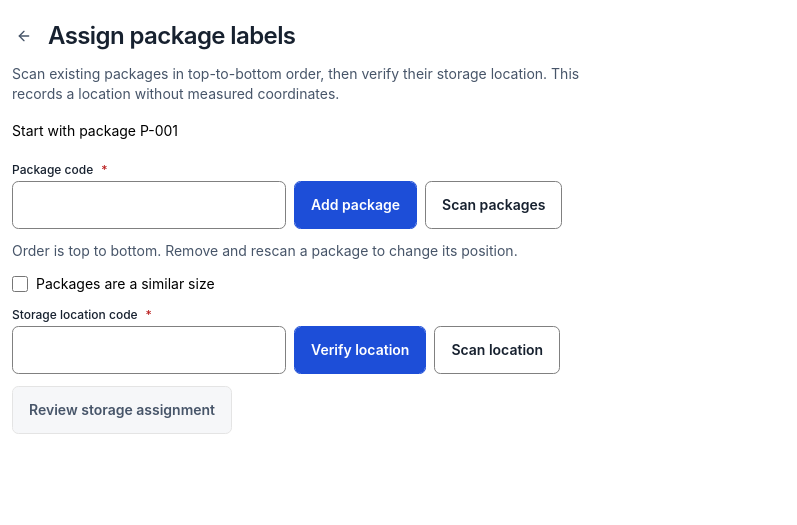
Test: direct unit package scanning rejects a different first package identity
Step 1. Type "OTHER" into the field labelled "Package code" → (149, 205), box [12,181,286,229]
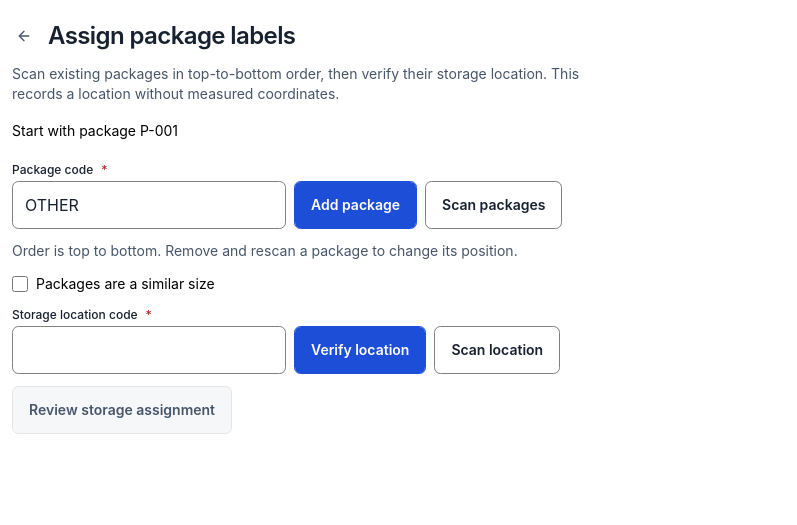
Step 2. Click the button "Add package" → (356, 205), box [294,181,417,229]
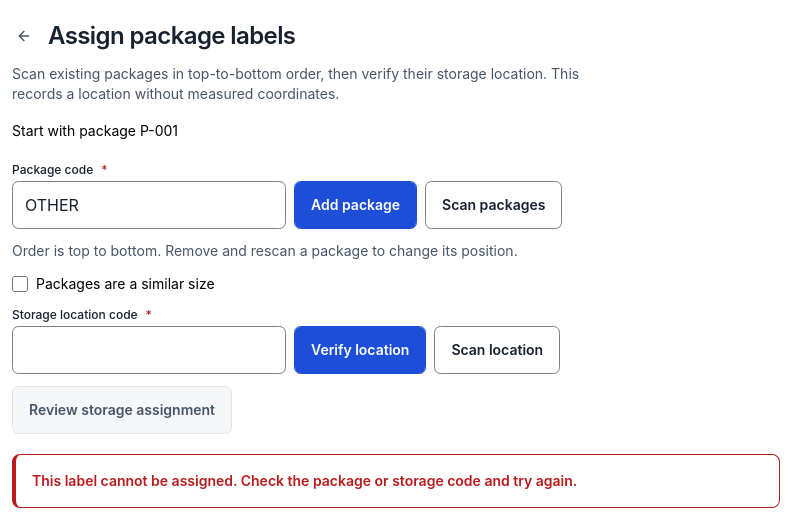
Result: the message shows "This label cannot be assigned" at [32,472,577,489]
